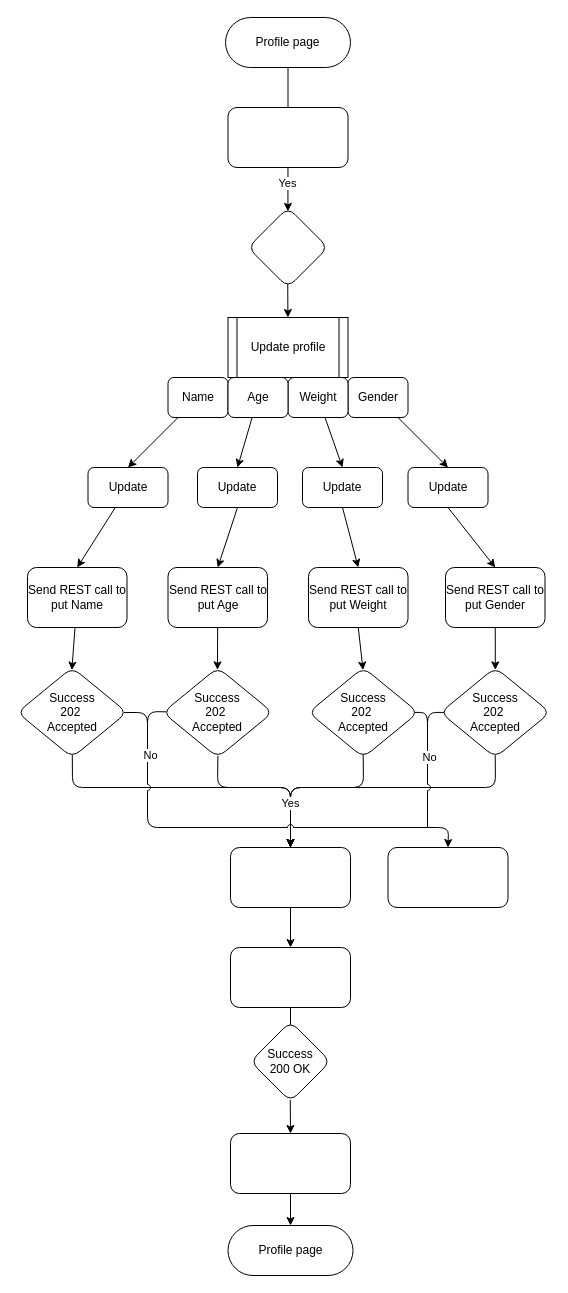
Image size: 568x1293. Some labels were removed from this diagram. The shapes that lost their labels are listed below. From the top down, each one's centre as x and y in pixels, then its label:
[287,137]: Change profile
[287,247]: Show Modal
[290,877]: alert successfully
[447,877]: alert error
[290,977]: Send REST call to get Account Age
[290,1163]: Close Modal
